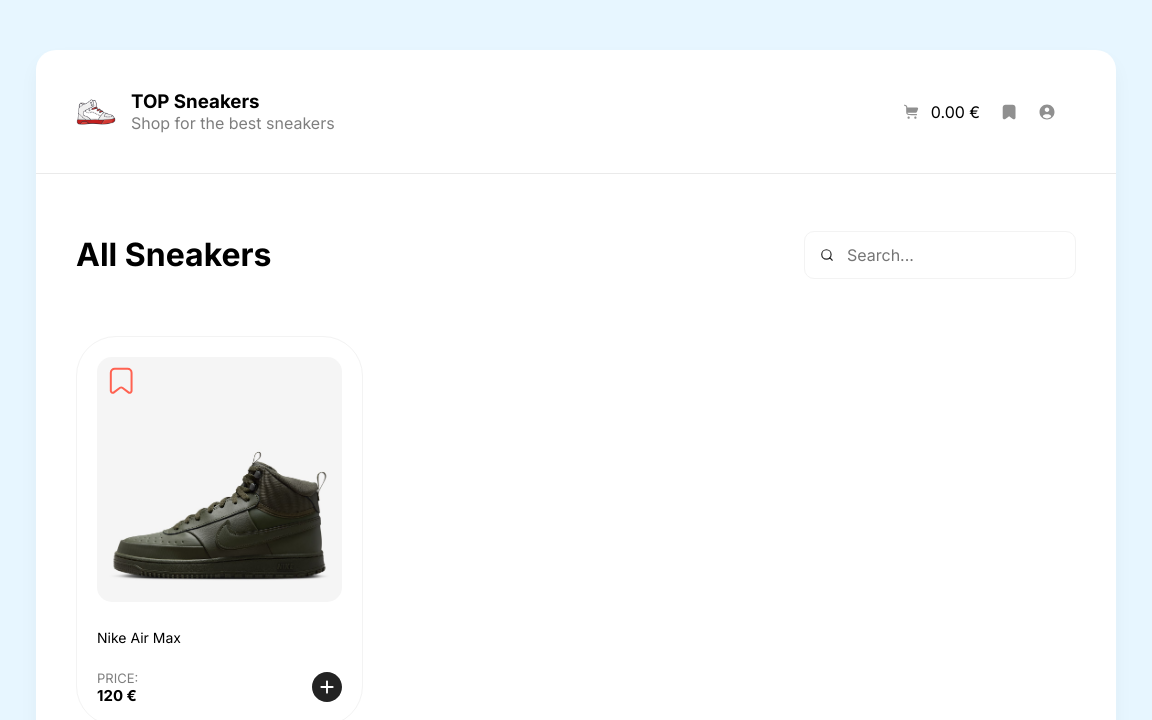
Test: renders catalog and opens cart
Expected: the heading "Nike Air Max" is shown, [97,629,181,646]
What coordinates should you click on to do the following:
click the button named "open cart"
I would click on:
 (941, 112)
Its box is [903,102,980,122].
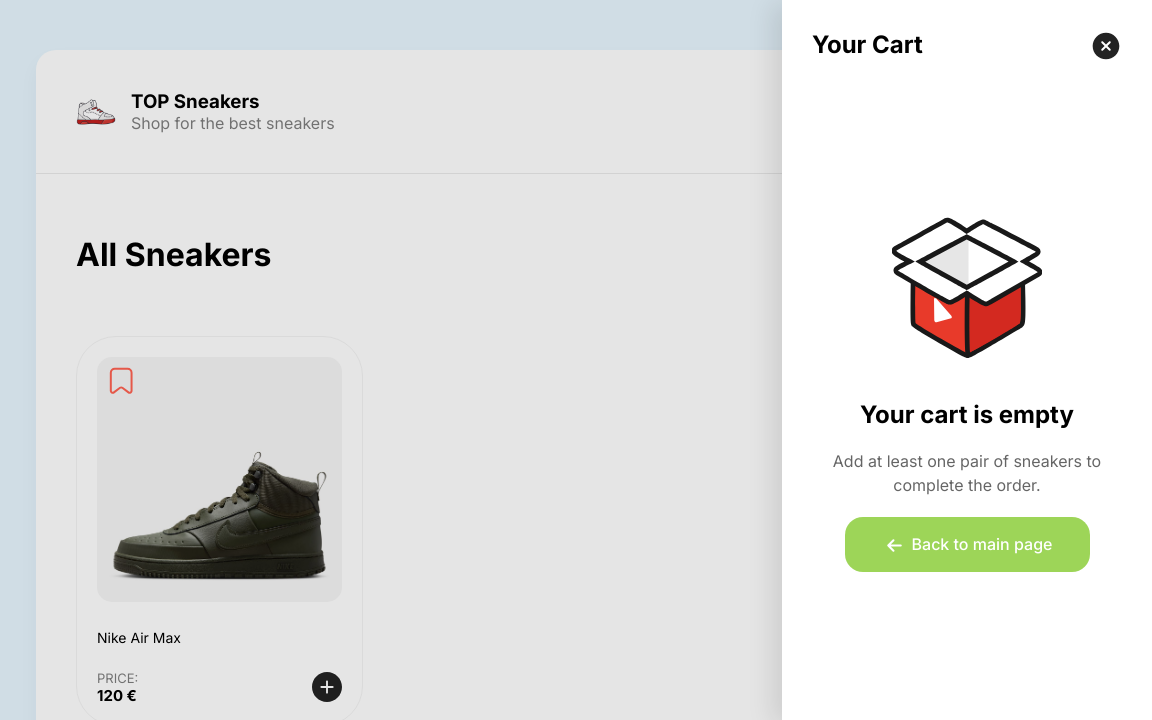
Expected: the element that starts with "Your Cart" is shown
